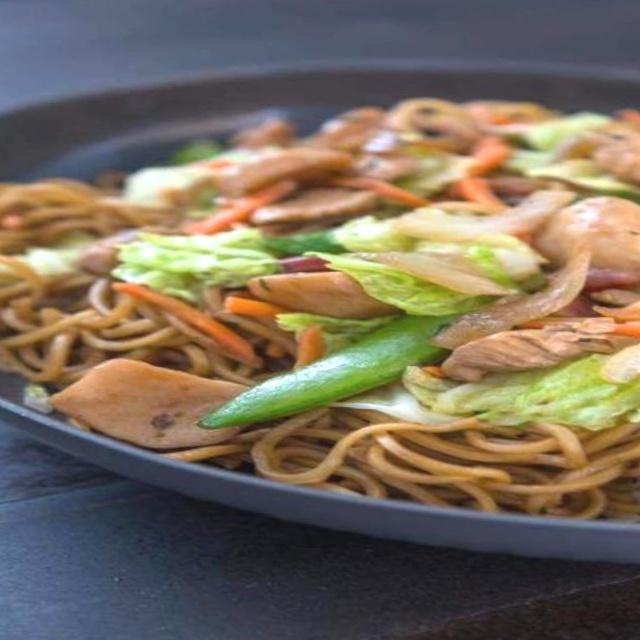pancit bihon: (0, 109, 639, 525)
